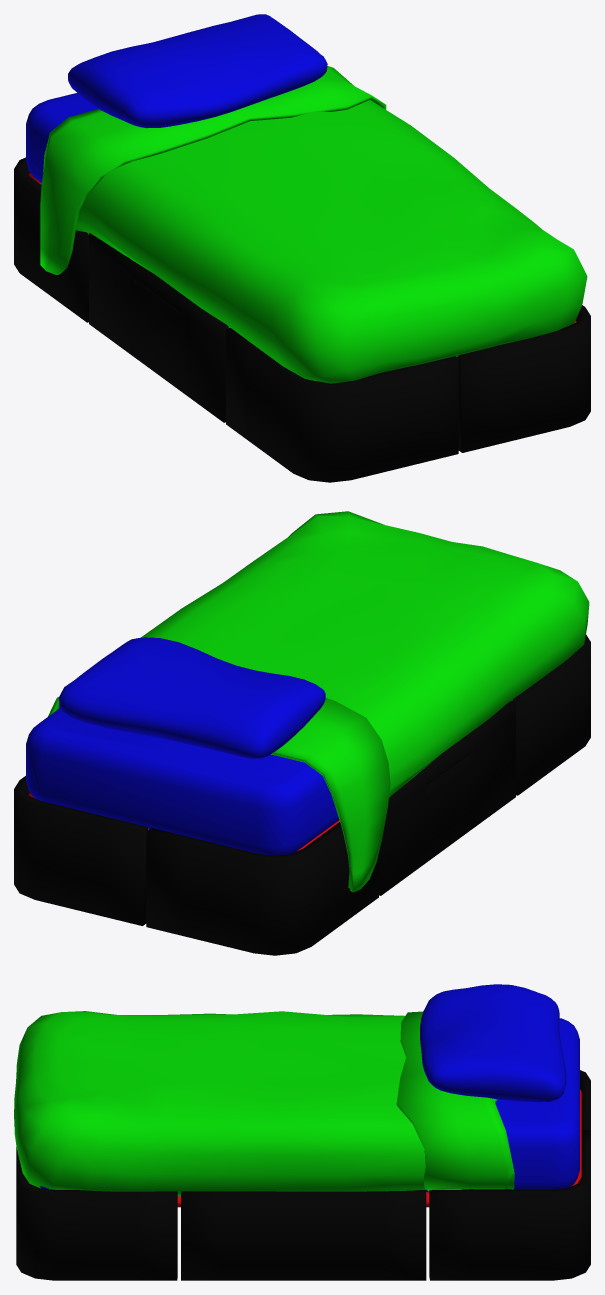
File: bed.fbx
3 views of the same model, one above another, from view 1: azimuth 30°, elevation 25°; view 2: azimuth 150°, elevation 25°; view 3: azimuth 270°, elevation 25° (orthographic). The views are drawn at different scales.
Parts seen in each view (by area): view 1: Bed; view 2: Bed; view 3: Bed.
Boxes of the visible parts, left/top/right/bottom form: Bed: left=14, top=14, right=590, bottom=482; Bed: left=14, top=511, right=590, bottom=955; Bed: left=14, top=984, right=590, bottom=1280.
Bounding box in the file's own units: 169 × 112 × 301.
